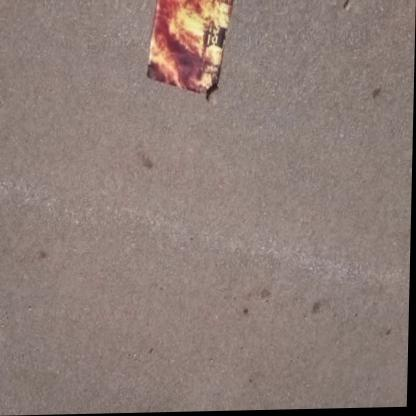fire-poster: (145, 0, 236, 104)
